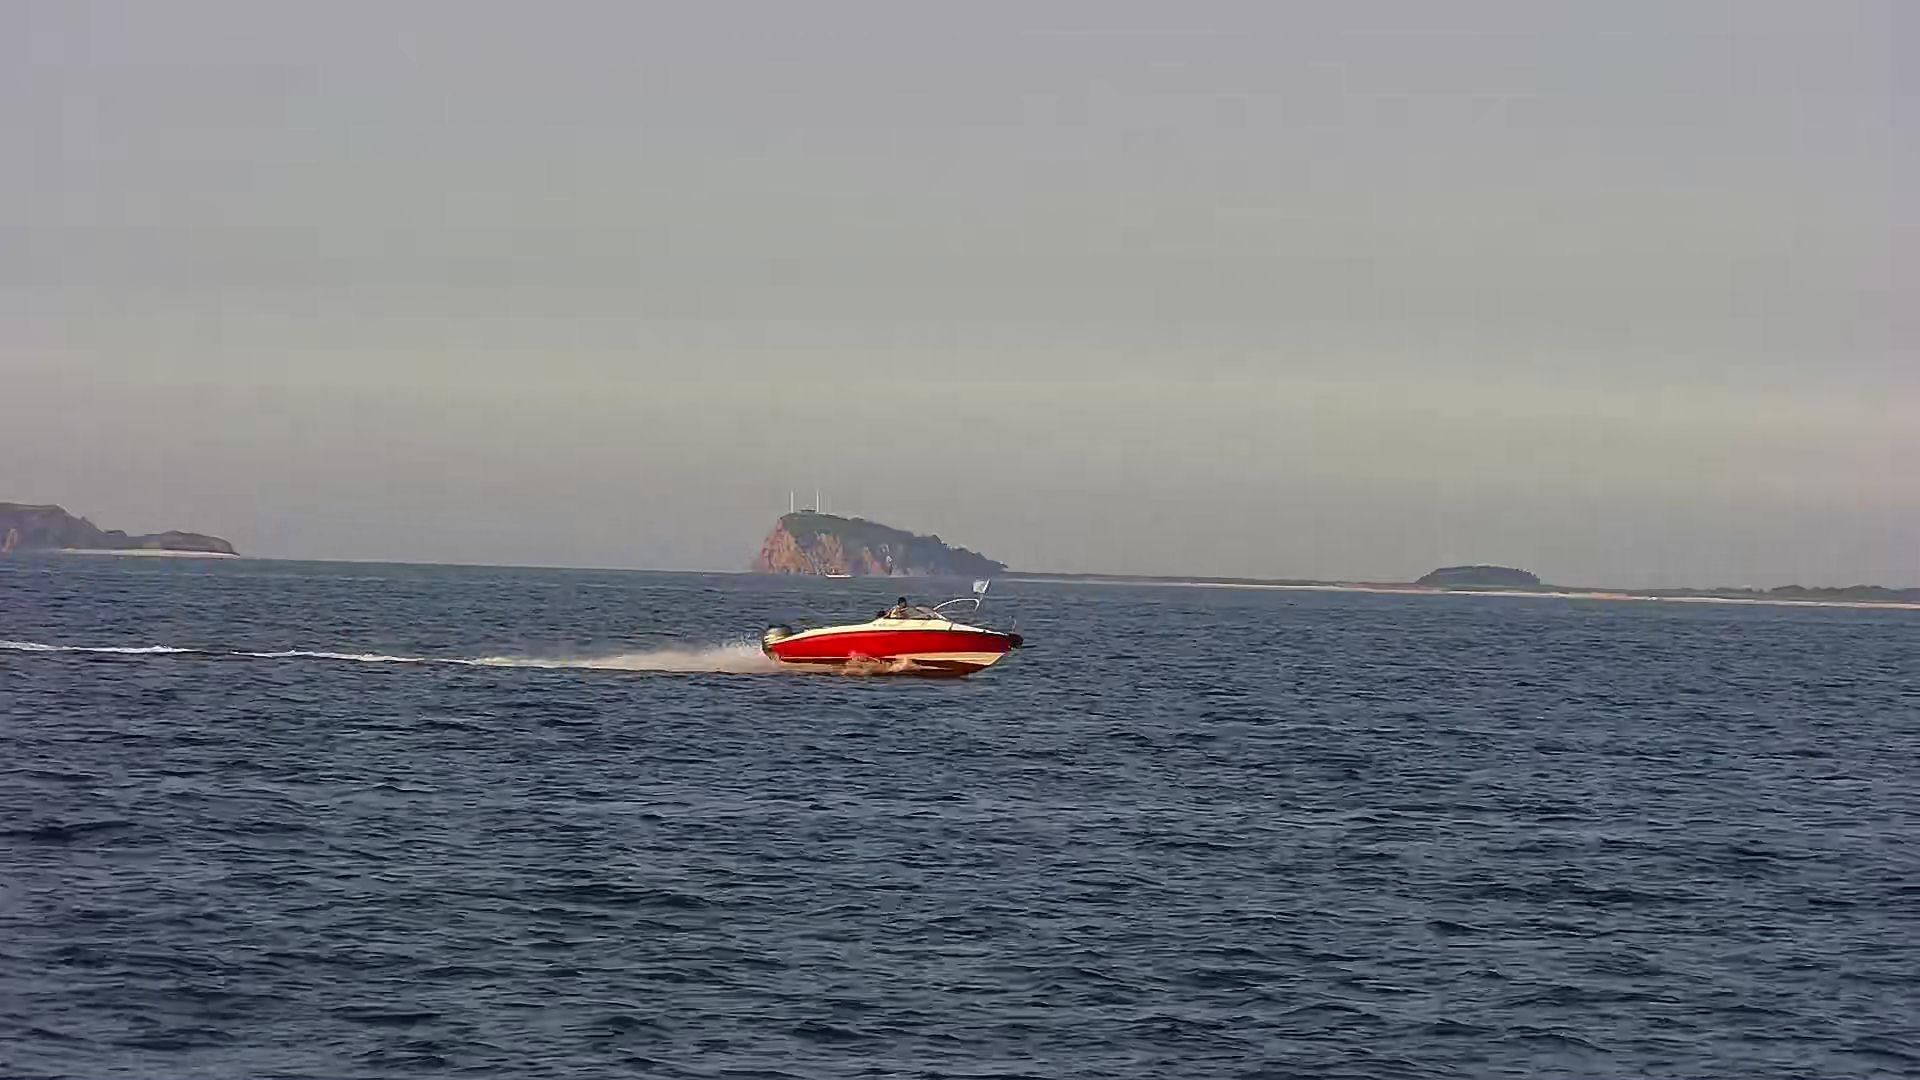boat: (752, 582, 1019, 688)
rock: (737, 485, 1035, 597), (1, 492, 258, 572), (1408, 549, 1547, 612)
